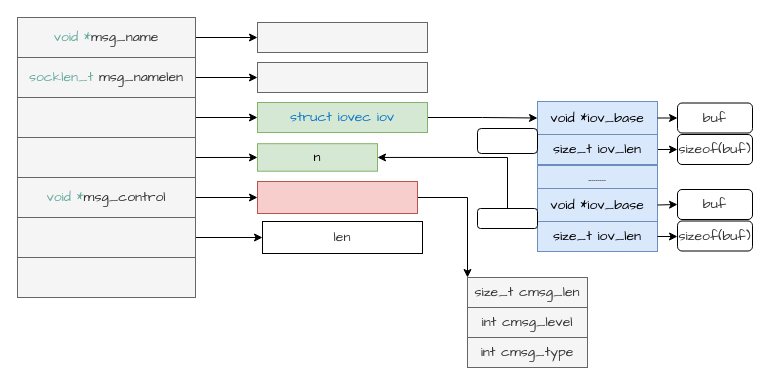
This 770x385 diagram has some shape labels left out. The shapes that lost their labels are listed below. From the top down, each one's box as (x1, y1, x2, y2) in pixels, then its label:
(256, 22, 428, 52): struct sockaddr addr
(256, 62, 428, 92): sizeof(addr)
(16, 96, 196, 138): struct iovec *msg_iov
(16, 136, 196, 178): size_t msg_iovlen
(476, 128, 538, 154): iov[0]
(256, 180, 418, 214): struct cmsghdr cmptr
(16, 216, 196, 258): size_t msg_controllen
(476, 208, 538, 228): iov[n-1]
(16, 256, 196, 298): int msg_flags
